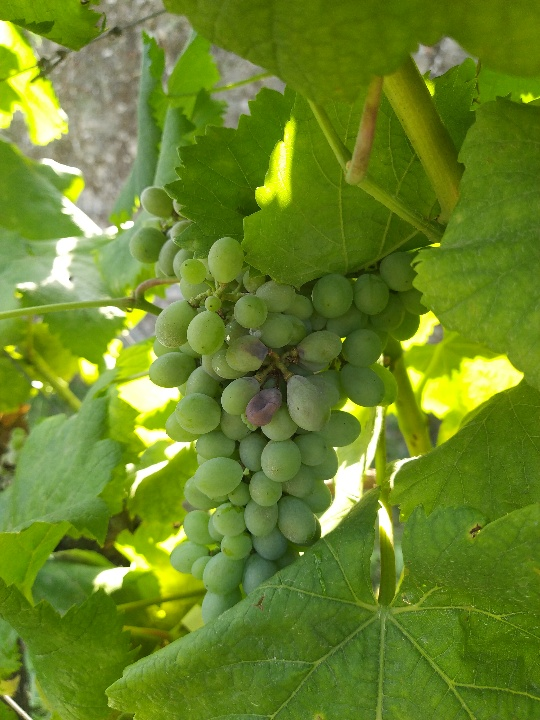grape: (131, 180, 429, 633)
